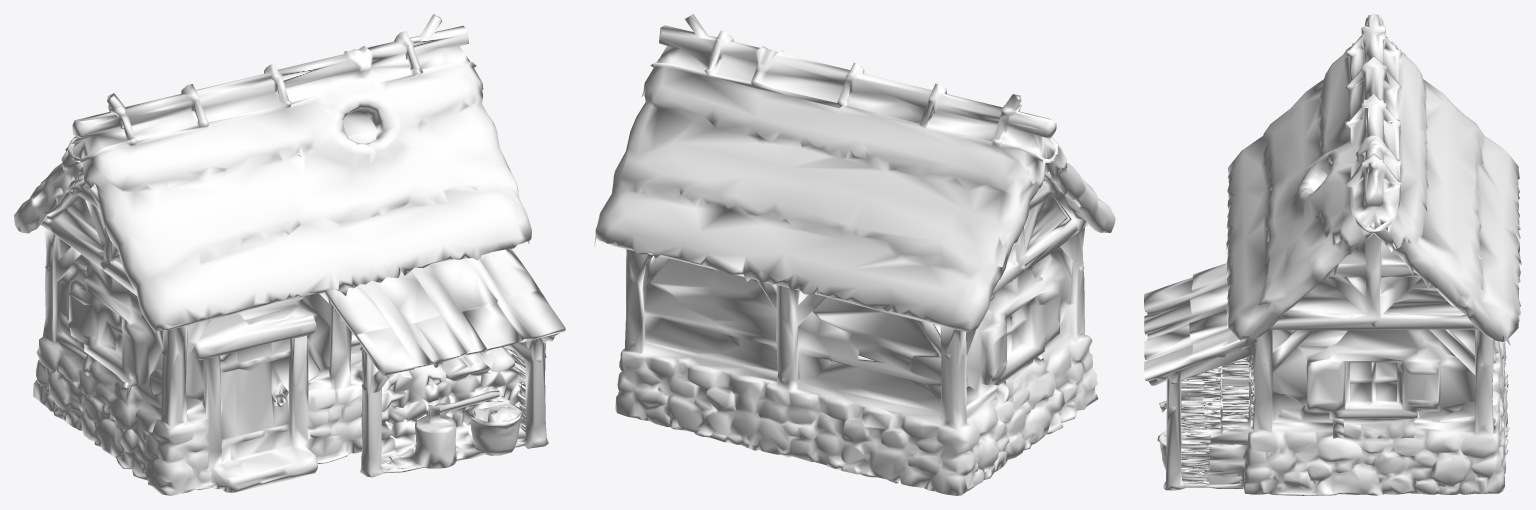
The model's file is cottage.glb.
3 views of the same model, side by side, from view 1: azimuth 30°, elevation 25°; view 2: azimuth 150°, elevation 25°; view 3: azimuth 270°, elevation 25° (orthographic). The views are drawn at different scales.
Parts seen in each view (by area): view 1: lod0; view 2: lod0; view 3: lod0.
Boxes of the visible parts, left/top/right/bottom form: lod0: left=14, top=14, right=565, bottom=495; lod0: left=594, top=14, right=1115, bottom=495; lod0: left=1144, top=14, right=1521, bottom=495.
Size of what is drawn, in the model's own units: 6.9 by 5.79 by 6.02.
Materials: 1 (1 with a texture image).
